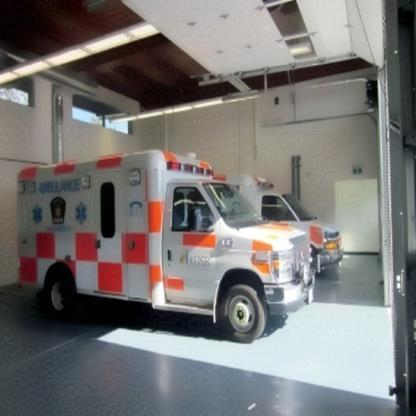ambulance_off: (17, 151, 311, 342)
